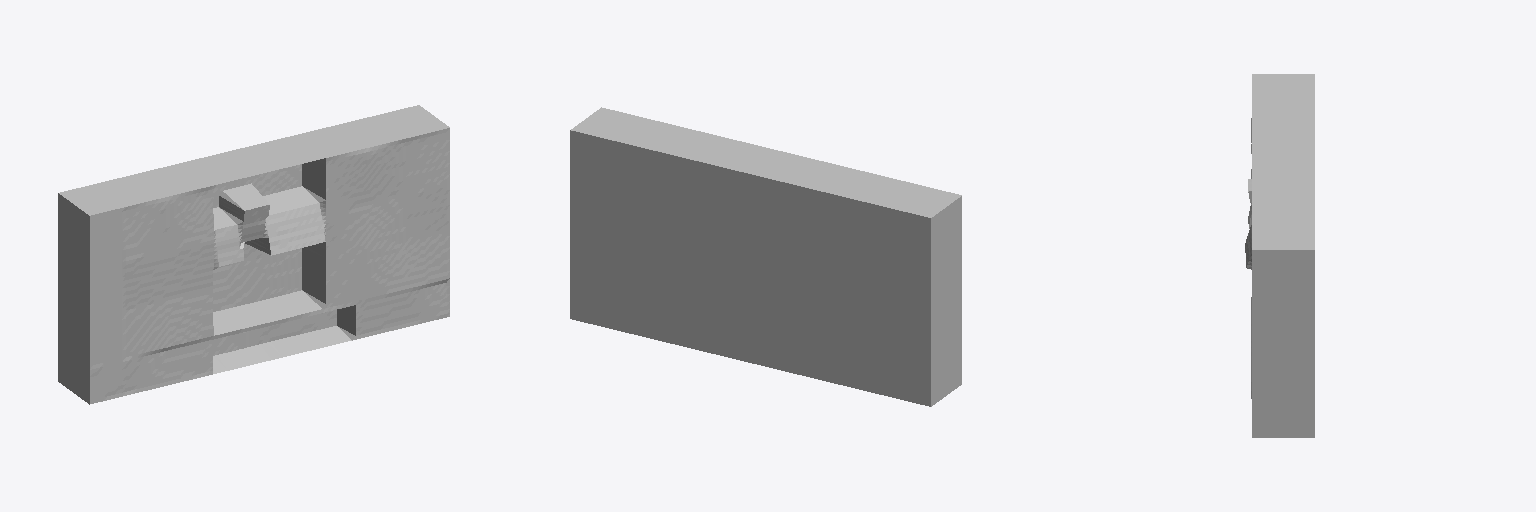
Rendered from rectangular_prism_bumps_3_1.obj.
3 renders of one model, left to right at view 1: azimuth 30°, elevation 25°; view 2: azimuth 150°, elevation 25°; view 3: azimuth 270°, elevation 25°, orthographic.
Size of the model in its own units: 10 by 5 by 1.66.